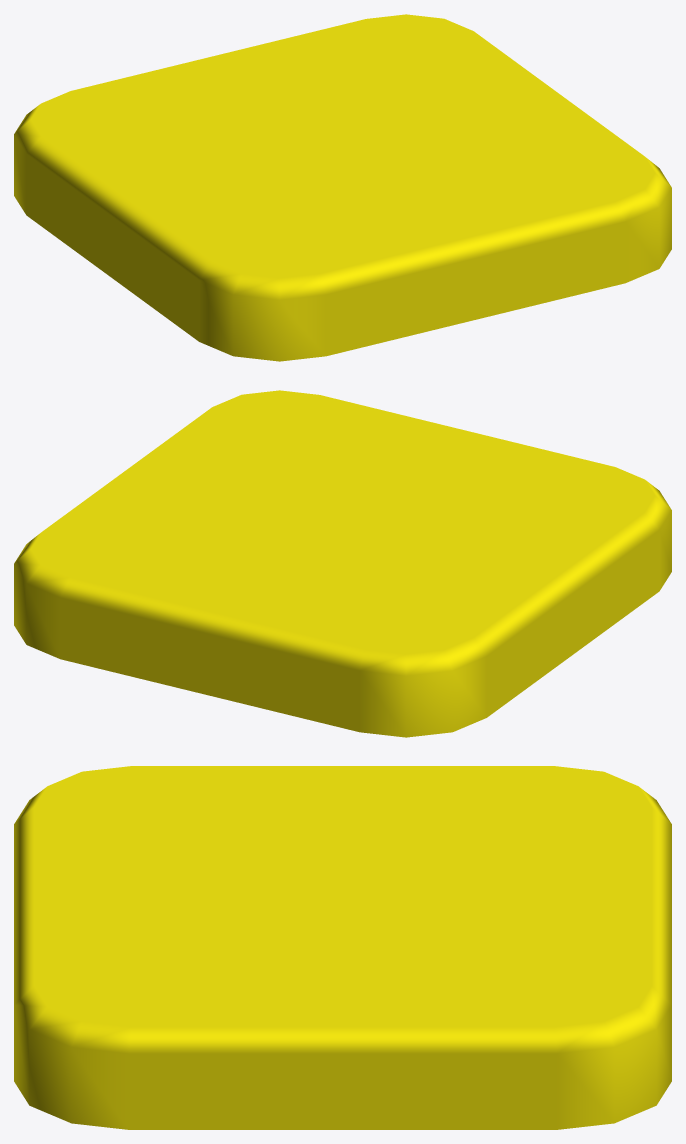
Rendered from button.fbx.
3 renders of one model, top to bottom at view 1: azimuth 30°, elevation 25°; view 2: azimuth 150°, elevation 25°; view 3: azimuth 270°, elevation 25°, orthographic. The views are drawn at different scales.
Parts seen in each view (by area): view 1: cell.003; view 2: cell.003; view 3: cell.003.
Part boxes in pixels (box(x1,y1,x2,y2)): cell.003: box(14, 14, 671, 361); cell.003: box(14, 390, 671, 737); cell.003: box(14, 766, 671, 1129).
Bounding box in the file's own units: 0.6517 × 0.1032 × 0.6517.
